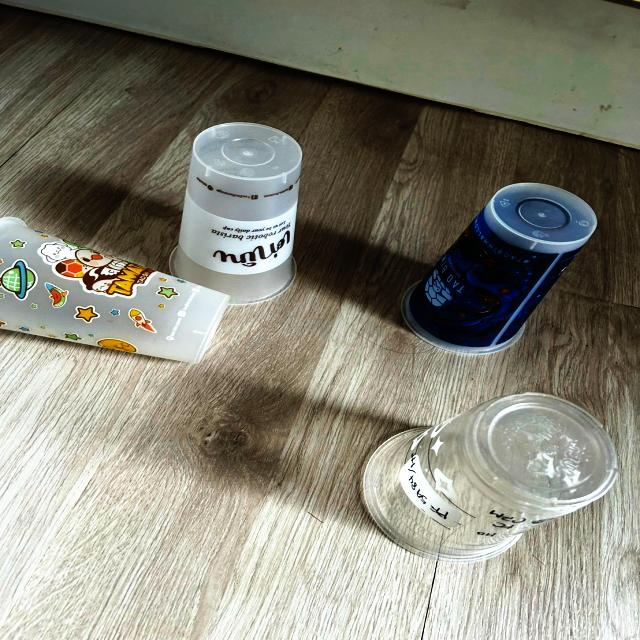Plastic Cup: (363, 393, 617, 562), (401, 183, 597, 354), (0, 218, 228, 363), (170, 123, 302, 304)
